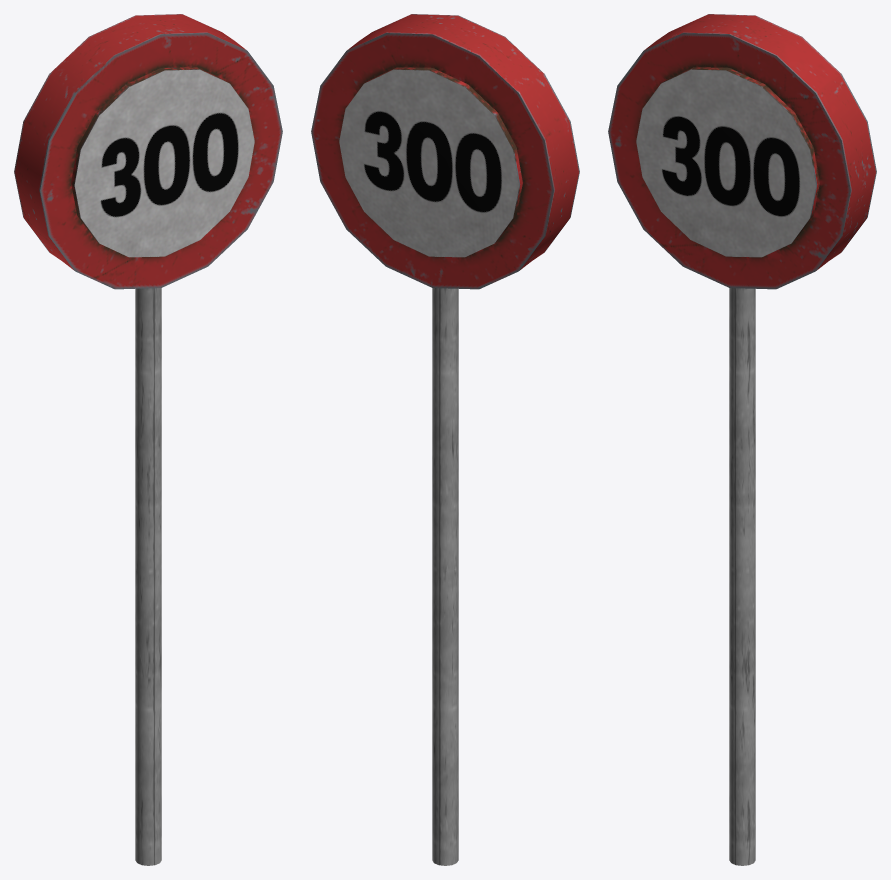
File: Props_Sign_2.fbx
The picture shows the model from 3 angles, left to right: view 1: azimuth 30°, elevation 25°; view 2: azimuth 150°, elevation 25°; view 3: azimuth 330°, elevation 25°; orthographic projection.
Parts seen in each view (by area): view 1: Props_Sign_2; view 2: Props_Sign_2; view 3: Props_Sign_2.
Part boxes in pixels (bbox=[...]): Props_Sign_2: bbox=[14, 14, 282, 865]; Props_Sign_2: bbox=[311, 14, 579, 865]; Props_Sign_2: bbox=[608, 14, 876, 865].
Size of the model in its own units: 111 by 364 by 26.51.
